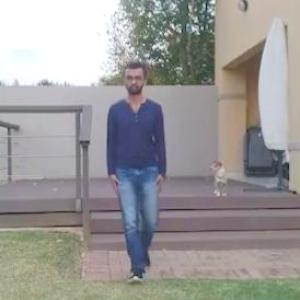follow: (105, 56, 172, 299)
